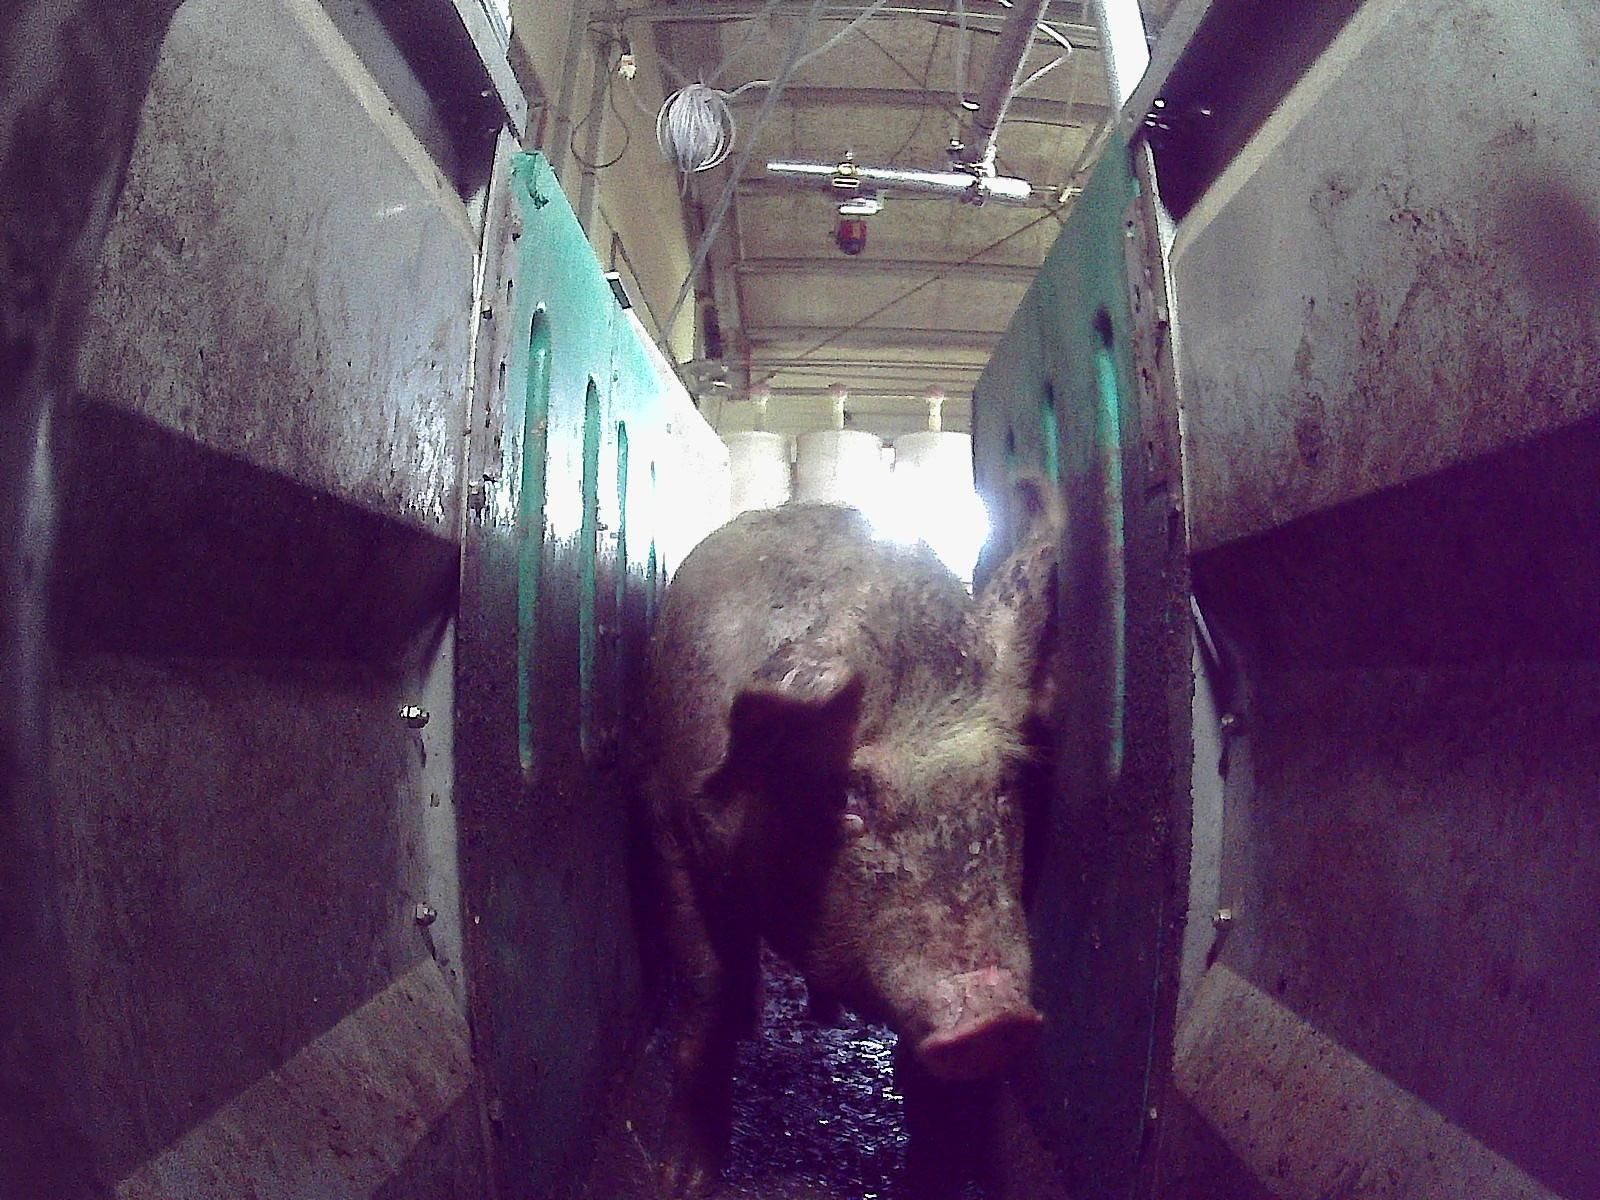Face: (742, 614, 1043, 1078)
